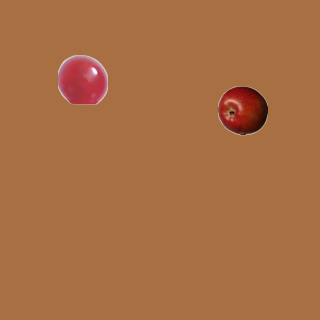Apple Braeburn: (217, 85, 267, 135)
Redcurrant: (57, 54, 107, 104)
